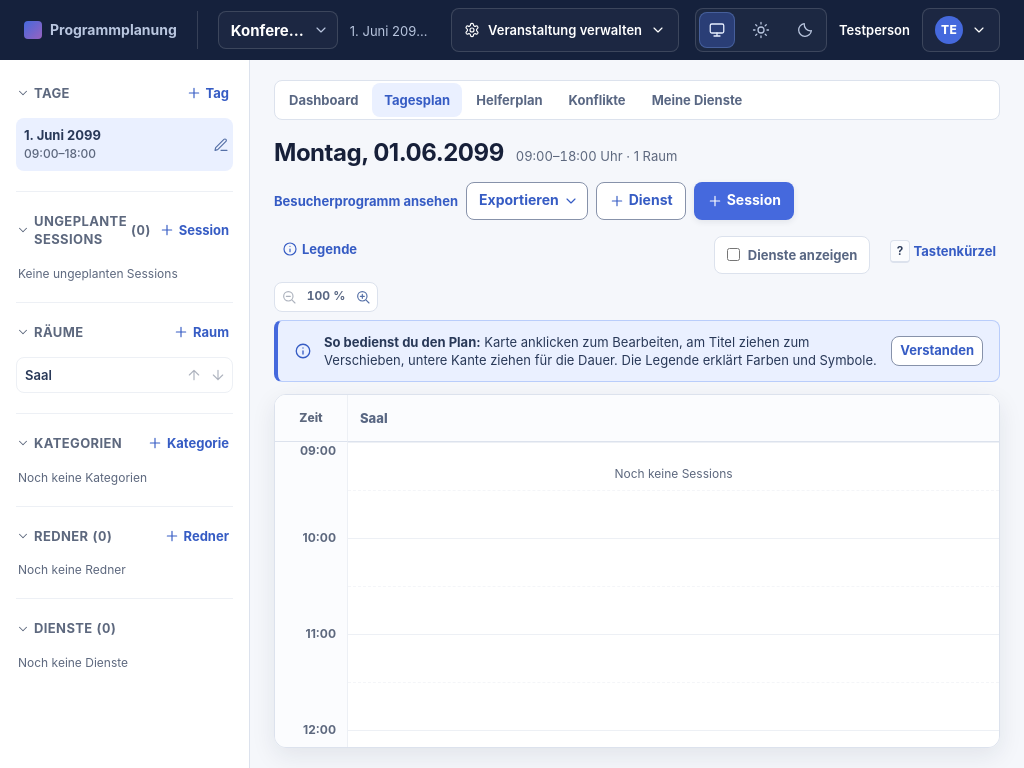
Test case: keeps only account actions in the header menu for admin (superadmin: true)
Expected: the button "Tagesplan" is shown, [372,83,462,117]
Click the button named "Menü". click: (961, 30)
box: [922,8,1000,52]
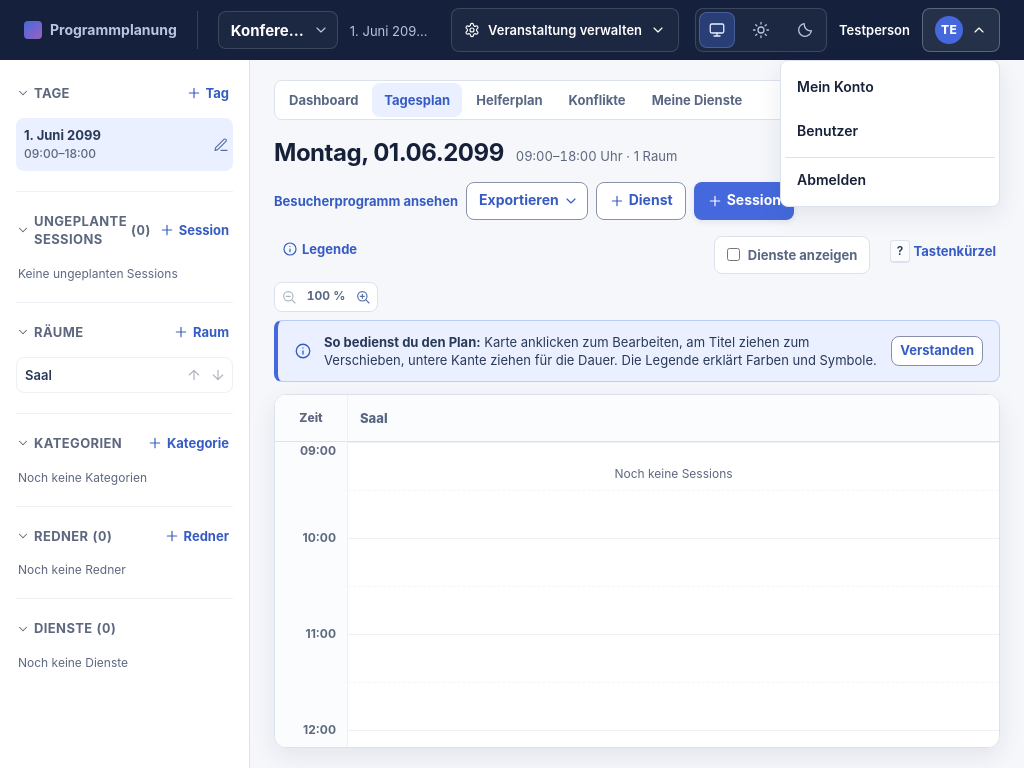
Expected: the buttons read "Mein Konto", "Benutzer", "Abmelden", in this order
Click the button "Abmelden". click: (890, 179)
box: [785,157,995,202]
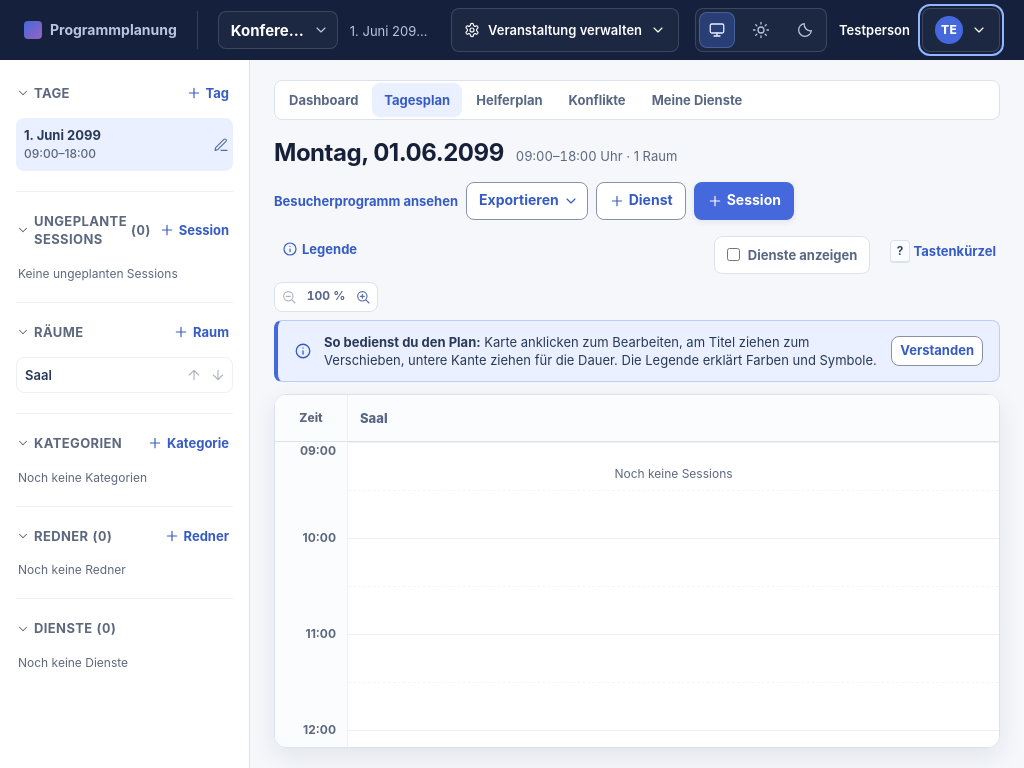
Expected: the element "Header-Aktionen" is gone
